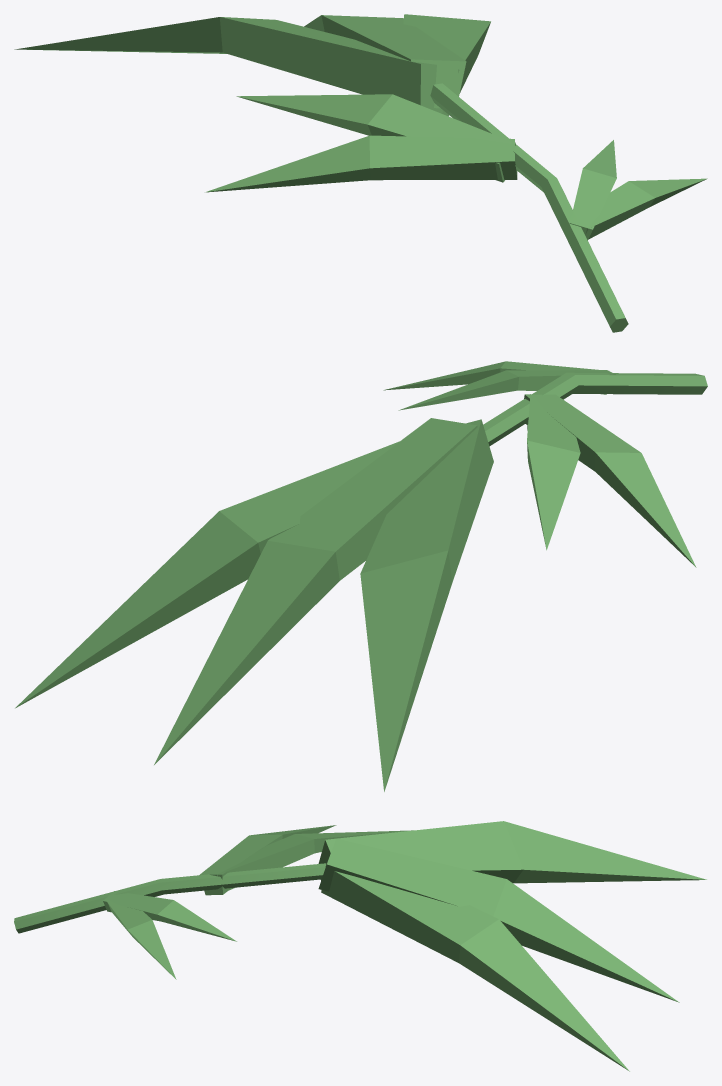
Rendered from bamboo-leaf3.FBX.
The picture shows the model from 3 angles, top to bottom: view 1: azimuth 30°, elevation 25°; view 2: azimuth 150°, elevation 25°; view 3: azimuth 270°, elevation 25°; orthographic projection. The views are drawn at different scales.
Visible parts, largest first — view 1: bamboo-leaf3; view 2: bamboo-leaf3; view 3: bamboo-leaf3.
Part boxes in pixels (<box>): bamboo-leaf3: <box>14,14,707,332</box>; bamboo-leaf3: <box>15,361,707,791</box>; bamboo-leaf3: <box>14,821,706,1071</box>.
Size of the model in its own units: 27.21 by 10.72 by 47.38.
